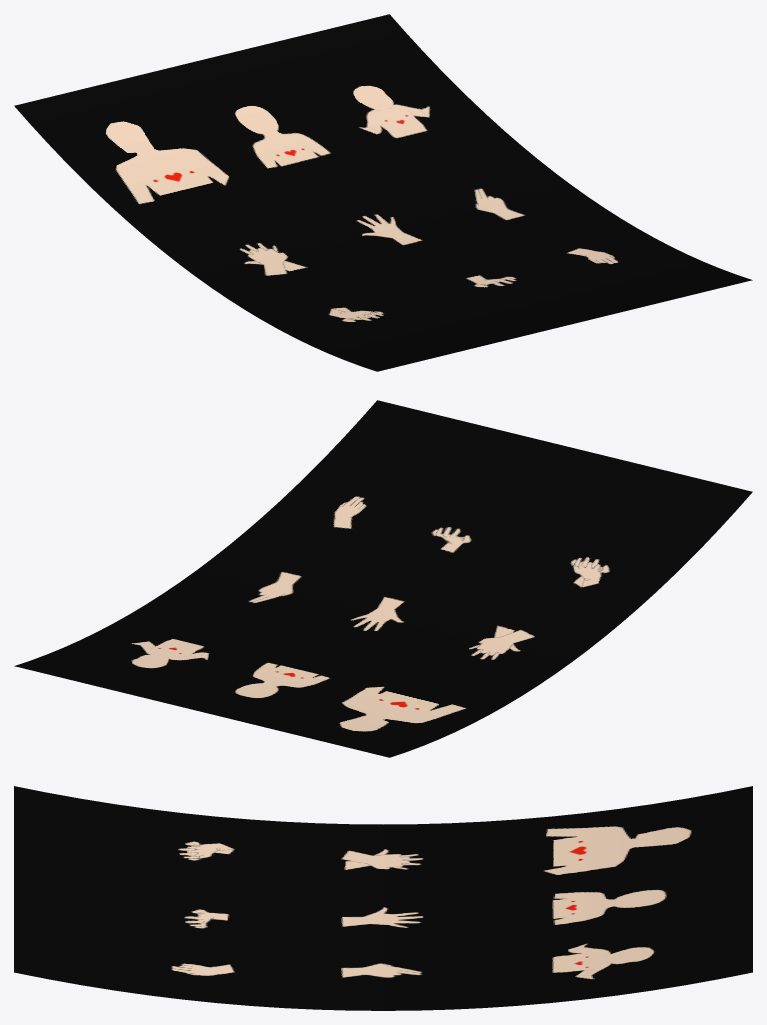
The model's file is board.fbx.
3 renders of one model, top to bottom at view 1: azimuth 30°, elevation 25°; view 2: azimuth 150°, elevation 25°; view 3: azimuth 270°, elevation 25°, orthographic.
Parts seen in each view (by area): view 1: Plane; view 2: Plane; view 3: Plane.
Boxes of the visible parts, bbox=[...] form: Plane: bbox=[14, 14, 752, 371]; Plane: bbox=[14, 400, 752, 757]; Plane: bbox=[14, 786, 752, 1010].
Bounding box in the file's own units: 200 × 19.23 × 335.
Materials: 1 (1 with a texture image).
